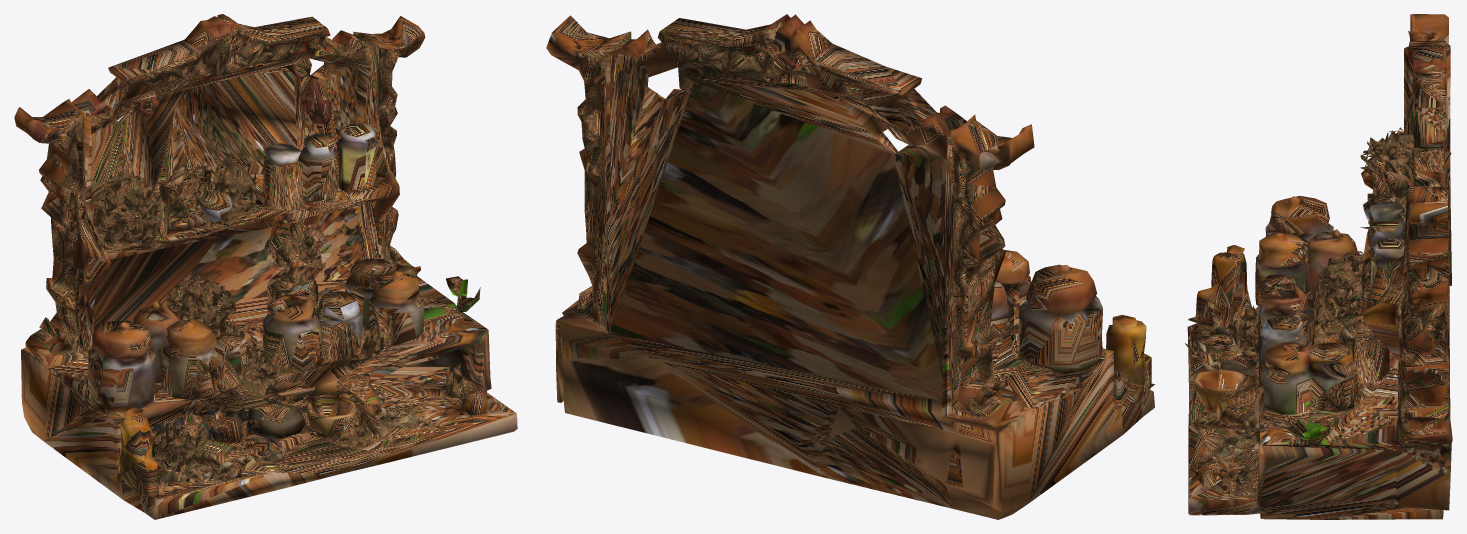
Rendered from bq_apothecary.lod.glb.
3 views of the same model, side by side, from view 1: azimuth 30°, elevation 25°; view 2: azimuth 150°, elevation 25°; view 3: azimuth 270°, elevation 25° (orthographic). The views are drawn at different scales.
Bounding box in the file's own units: 2 × 1.77 × 1.17.
1 material, 1 textured.
